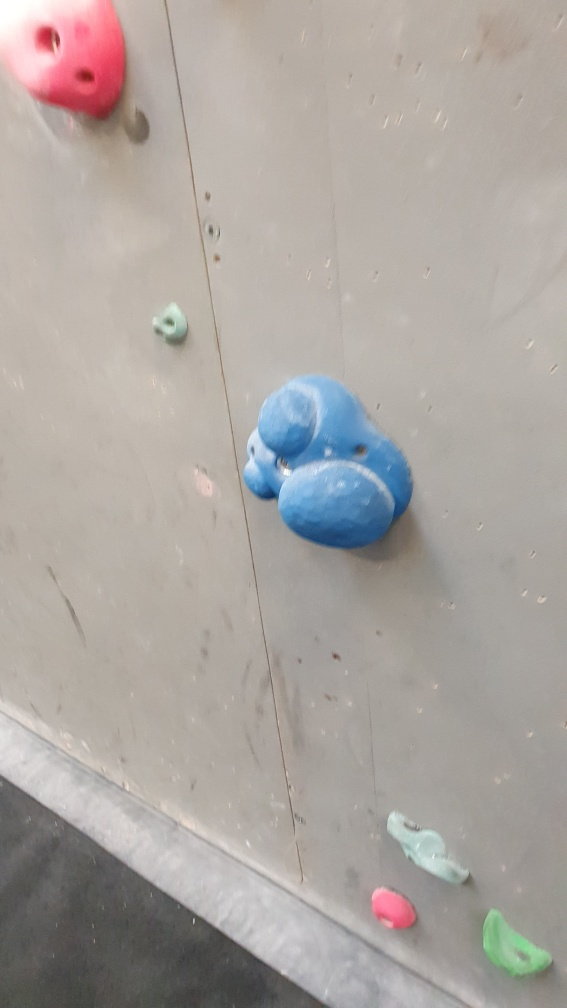Sloper: (241, 373, 417, 550)
